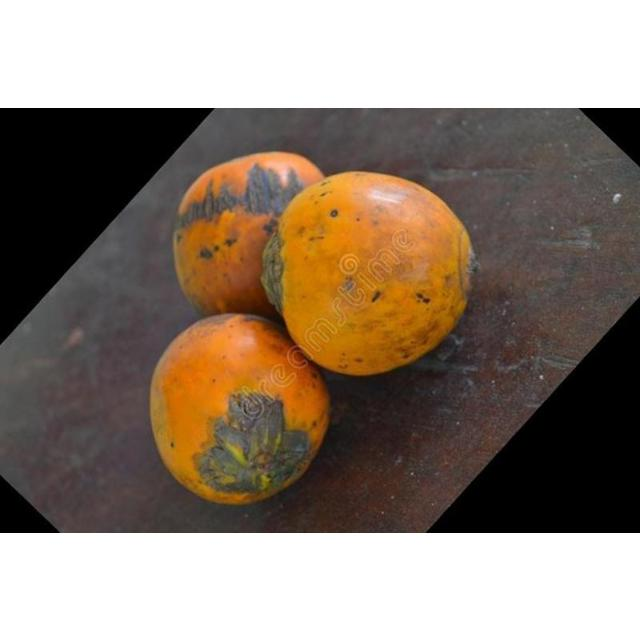good: (261, 170, 474, 377), (149, 313, 331, 506), (172, 151, 325, 320)
